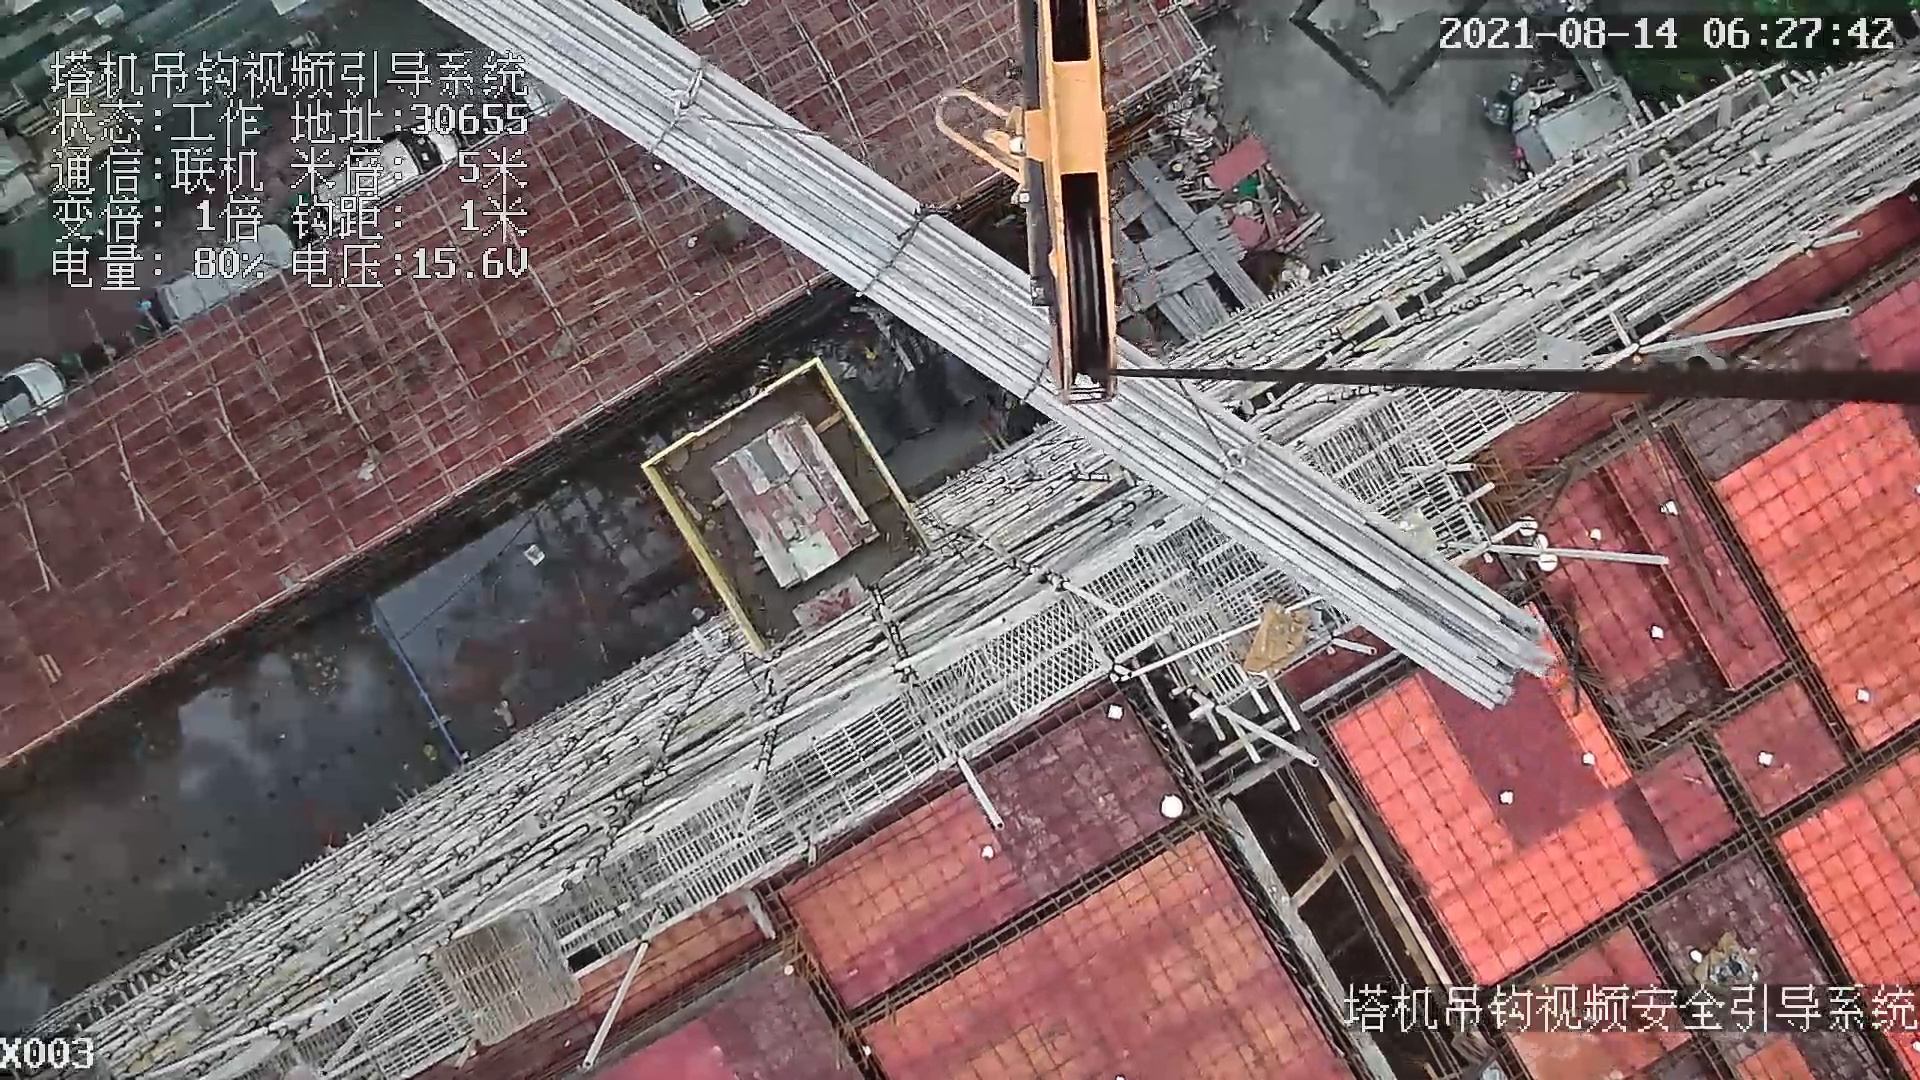hook: (1011, 1, 1121, 409)
